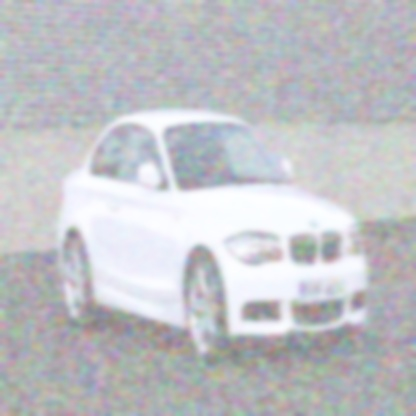Vehicle: (39, 85, 384, 378)
